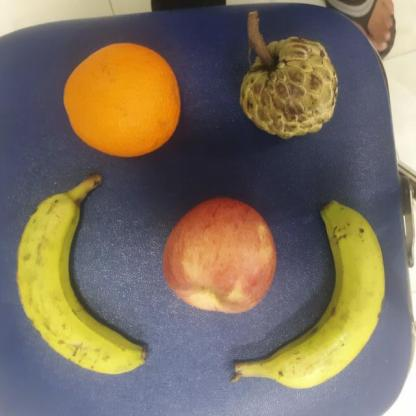annona: (240, 36, 338, 139)
apple: (162, 199, 277, 315)
banana: (229, 201, 385, 390), (15, 173, 147, 375)
orange: (63, 41, 182, 157)
